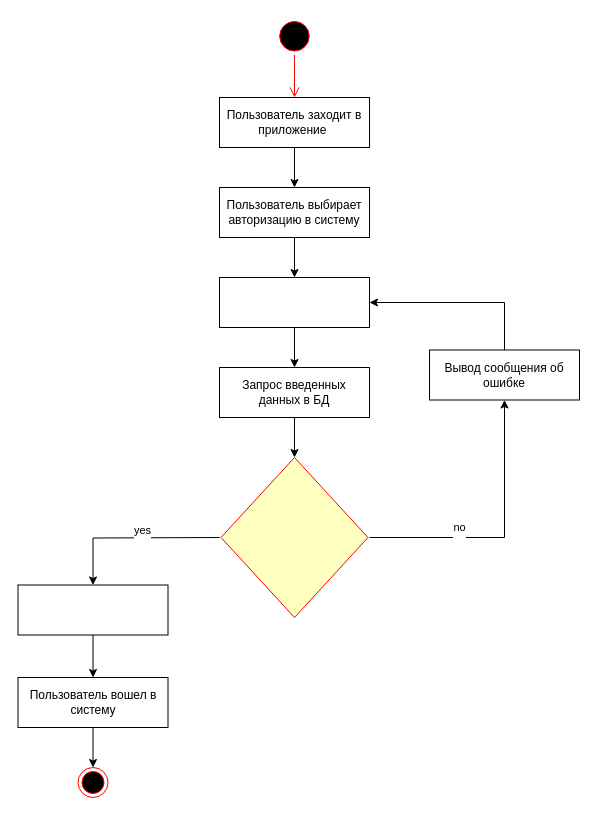
Image size: 597x815. Some labels were removed from this diagram. The shapes that lost their labels are listed below. From the top down, each one's centre as x and y in pixels, then its label:
[294,302]: Ввод необходимых данных
[294,537]: Пользователь ввел корректные данные?
[92,609]: Вывод сообщения об успешной авторизации
